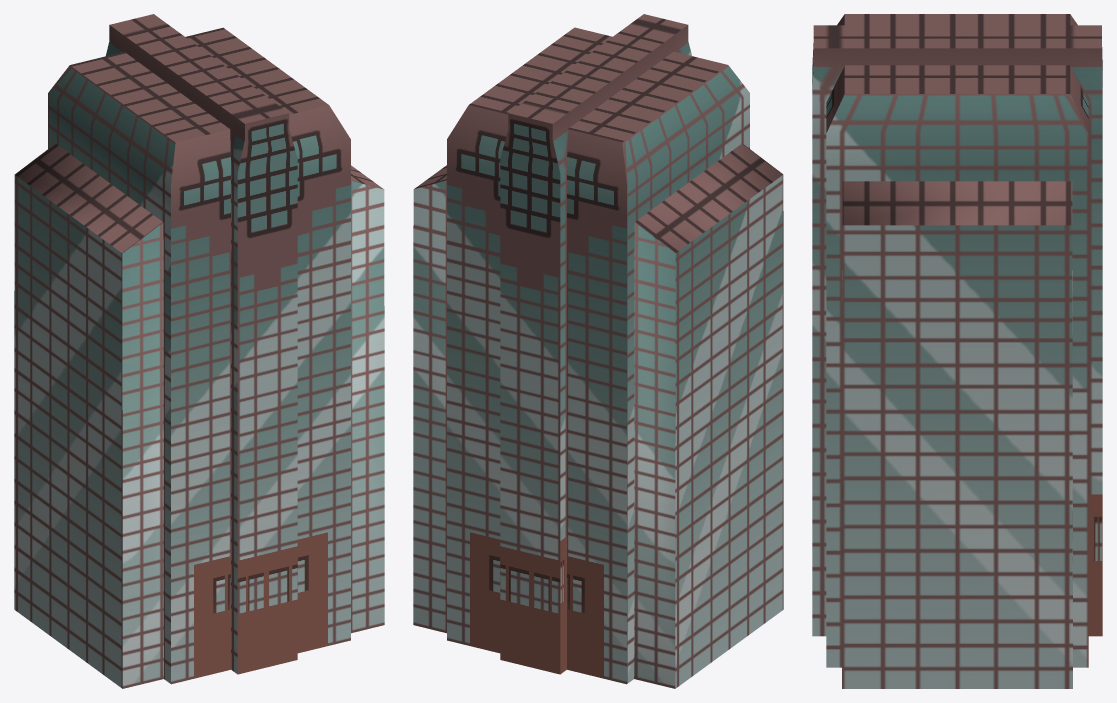
Rendered from D Town Building 5.FBX.
3 renders of one model, left to right at view 1: azimuth 30°, elevation 25°; view 2: azimuth 150°, elevation 25°; view 3: azimuth 270°, elevation 25°, orthographic. The views are drawn at different scales.
Parts seen in each view (by area): view 1: DownTown Building 5; view 2: DownTown Building 5; view 3: DownTown Building 5.
Part boxes in pixels (x1,y1,x2,y2): DownTown Building 5: (14,14,384,688); DownTown Building 5: (413,14,783,688); DownTown Building 5: (812,14,1102,688).
Bounding box in the file's own units: 98.03 × 196 × 88.39.
